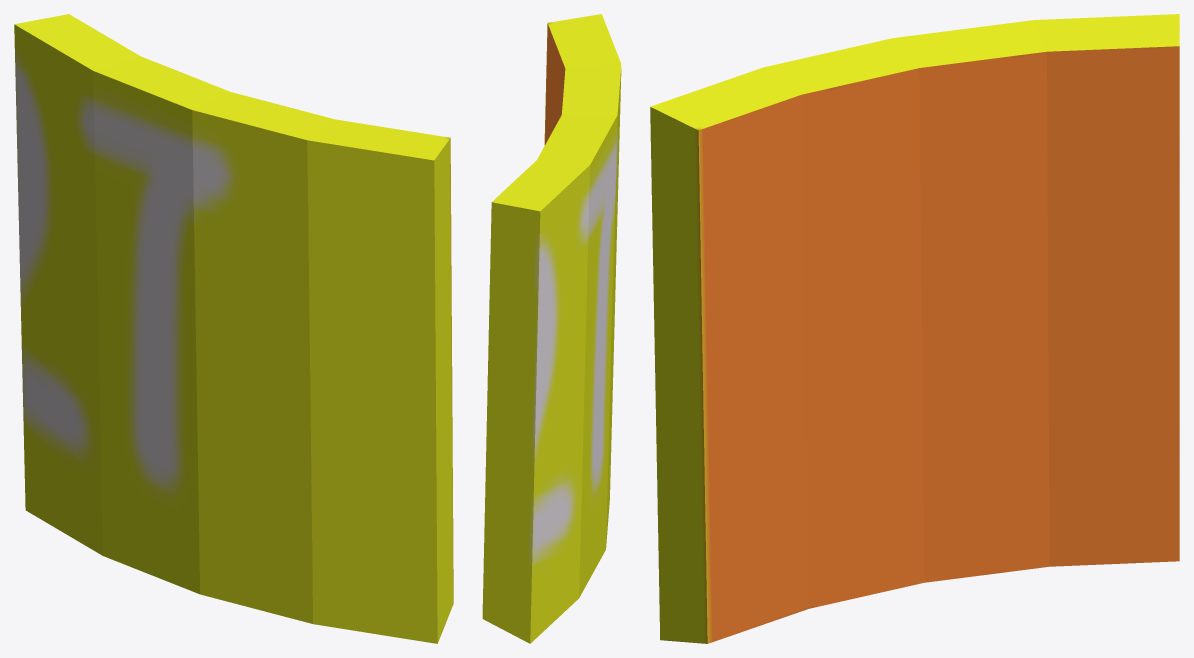
File: Level_1_2.obj
The picture shows the model from 3 angles, left to right: view 1: azimuth 30°, elevation 25°; view 2: azimuth 150°, elevation 25°; view 3: azimuth 270°, elevation 25°; orthographic projection. The views are drawn at different scales.
Visible parts, largest first — view 1: Level_1_2_Cylinder.012; view 2: Level_1_2_Cylinder.012; view 3: Level_1_2_Cylinder.012.
Part boxes in pixels (left/top/right/bottom): Level_1_2_Cylinder.012: left=14, top=14, right=453, bottom=643; Level_1_2_Cylinder.012: left=482, top=14, right=621, bottom=643; Level_1_2_Cylinder.012: left=650, top=14, right=1179, bottom=643.
Bounding box in the file's own units: 0.8892 × 1.88 × 1.7.
